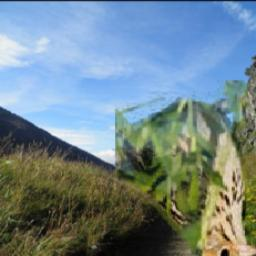Sparrow: (115, 81, 256, 256)
